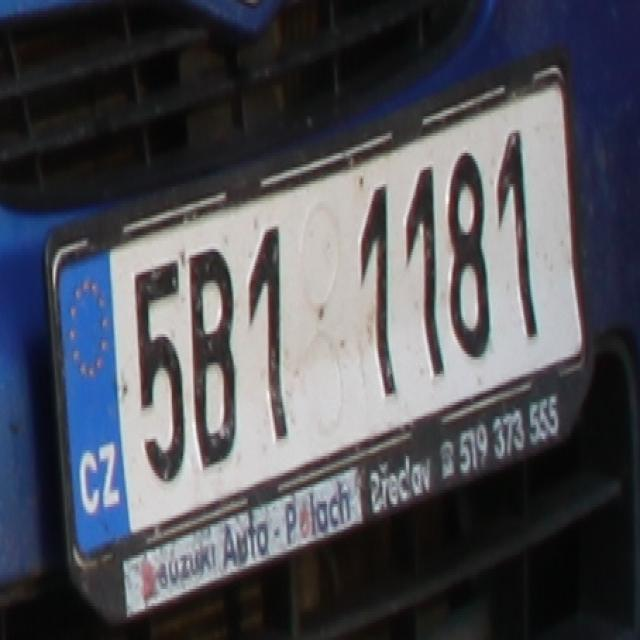1: (246, 227, 292, 448), (492, 125, 537, 342), (354, 182, 399, 396), (402, 161, 442, 388)
5: (130, 255, 184, 484)
8: (447, 147, 490, 360)
B: (186, 243, 238, 473)
